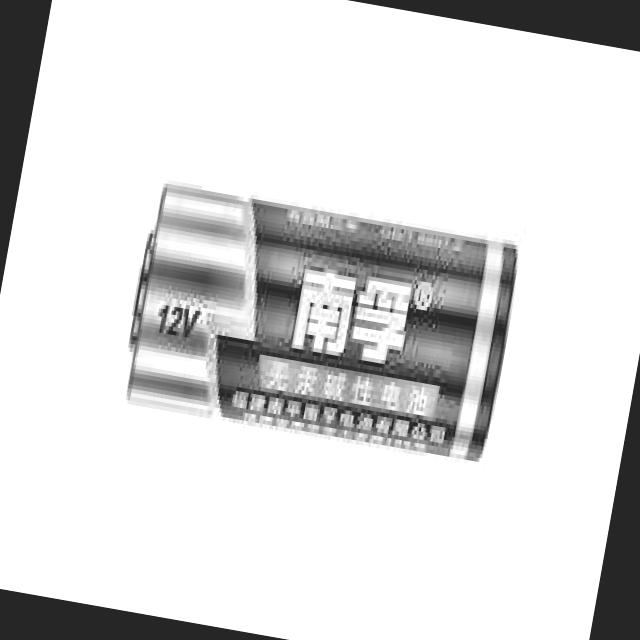Battery: (112, 172, 528, 464)
